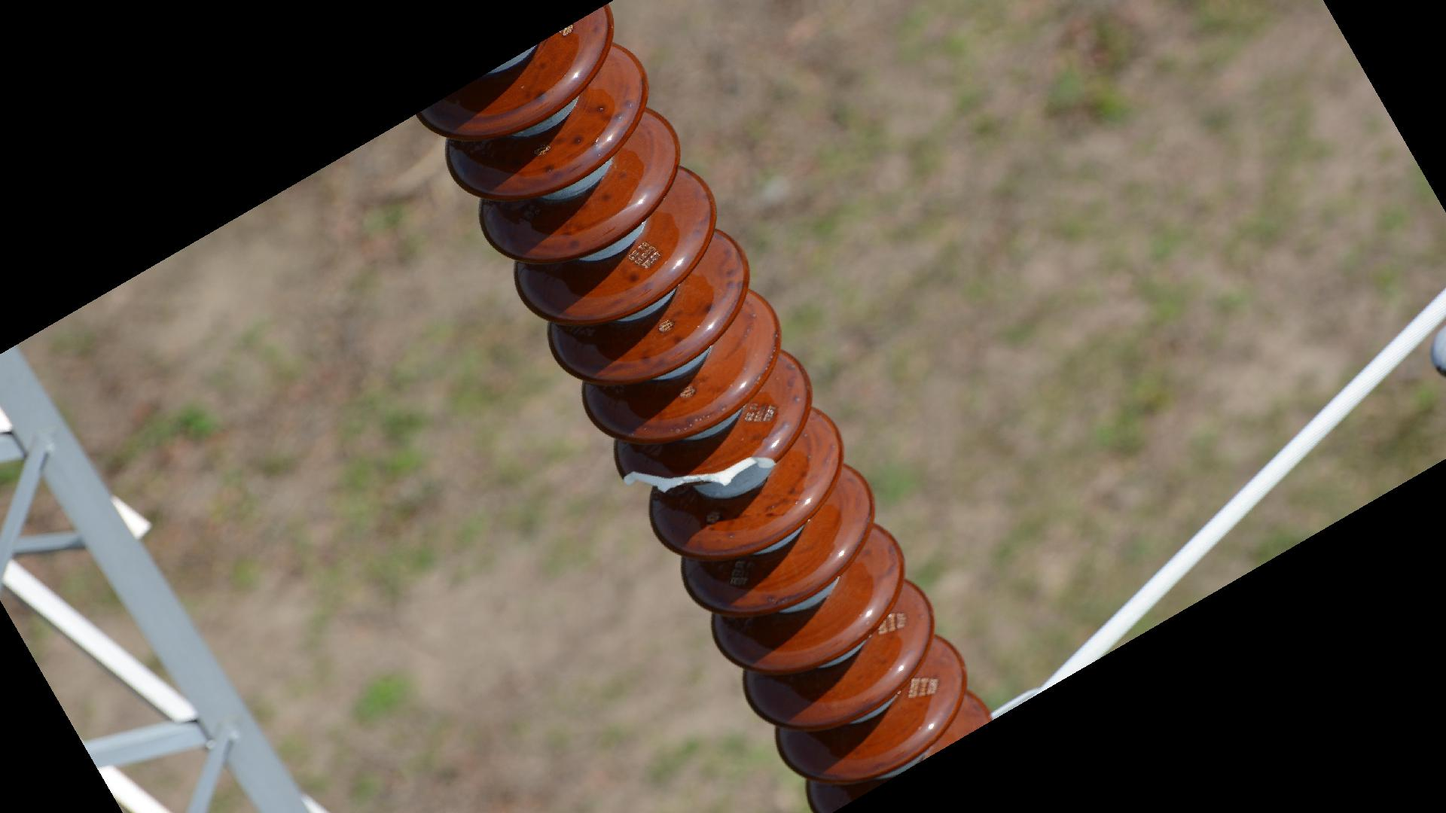insulator: (405, 1, 1005, 813)
insulator_breakage: (613, 442, 788, 499)
